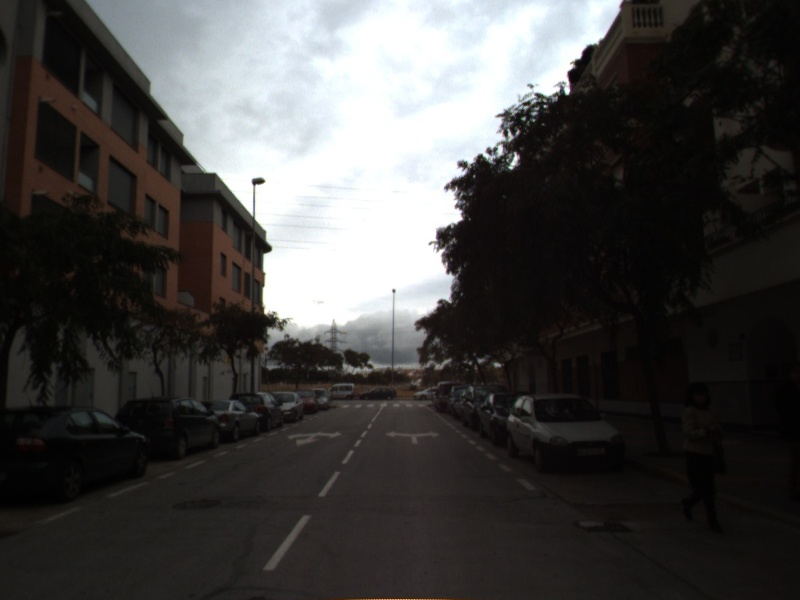LEFT_RIGHT: (384, 429, 443, 446)
